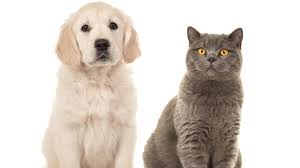cat: (183, 22, 244, 83)
dog: (52, 1, 142, 75)
